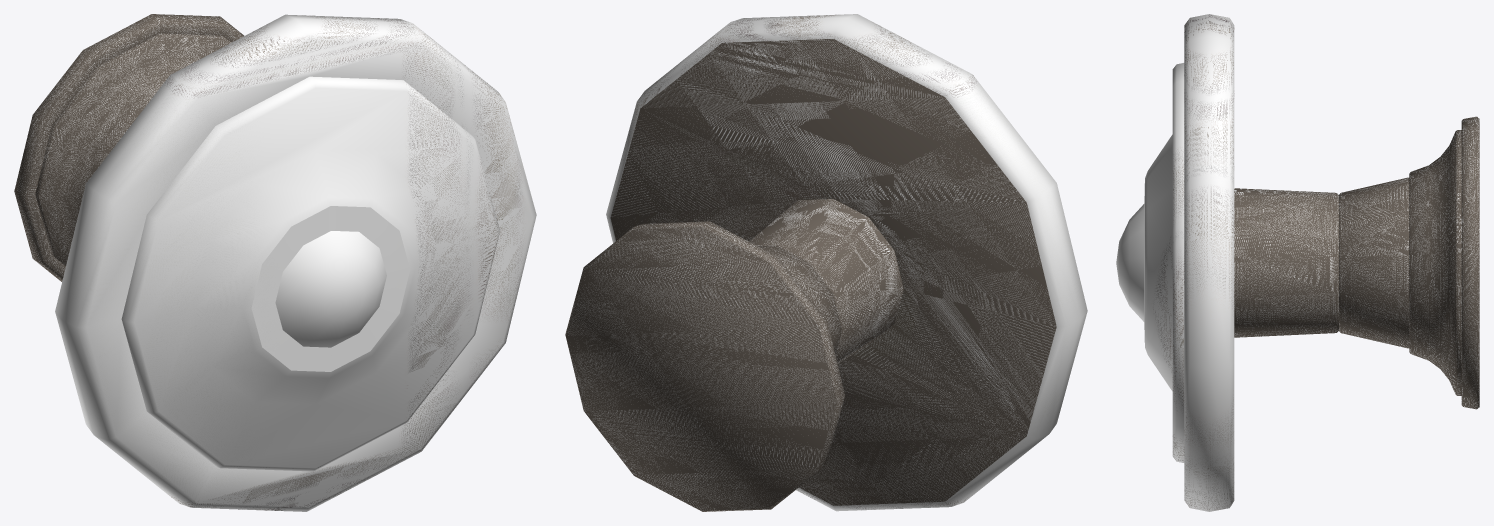
Rendered from original-35.obj.
3 renders of one model, left to right at view 1: azimuth 30°, elevation 25°; view 2: azimuth 150°, elevation 25°; view 3: azimuth 270°, elevation 25°, orthographic. The views are drawn at different scales.
Visible parts, largest first — view 1: _7025_BR_2_1/_7025_BR_2/mesh23/mesh23-geometry#mesh23-geometry; view 2: _7025_BR_2_1/_7025_BR_2/mesh23/mesh23-geometry#mesh23-geometry; view 3: _7025_BR_2_1/_7025_BR_2/mesh23/mesh23-geometry#mesh23-geometry.
Part boxes in pixels (x1,y1,x2,y2): _7025_BR_2_1/_7025_BR_2/mesh23/mesh23-geometry#mesh23-geometry: [14, 14, 536, 511]; _7025_BR_2_1/_7025_BR_2/mesh23/mesh23-geometry#mesh23-geometry: [565, 14, 1087, 511]; _7025_BR_2_1/_7025_BR_2/mesh23/mesh23-geometry#mesh23-geometry: [1116, 14, 1479, 511].
Size of the model in its own units: 0.0587 by 0.0587 by 0.0427.
